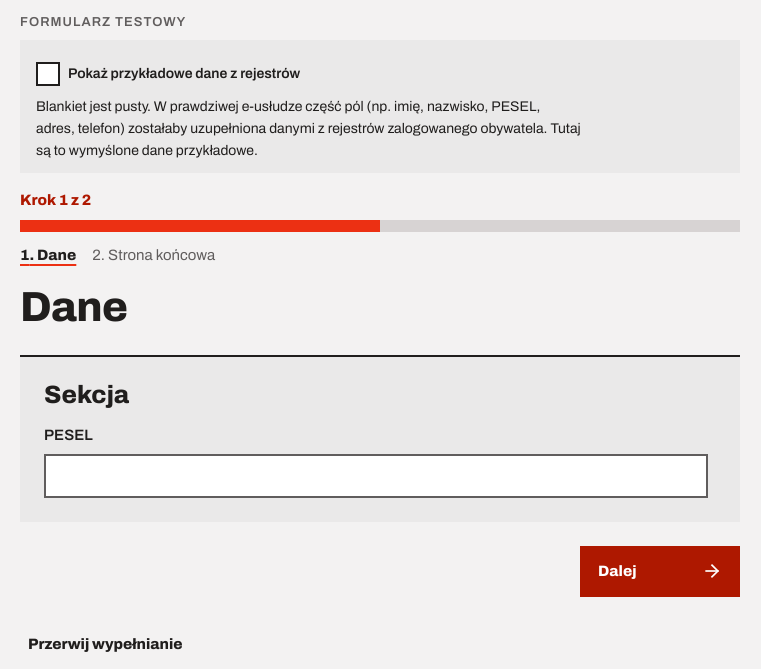
Test: validation on Dalej › lets an empty required field through, so the whole form can be browsed
Click the button "Dalej" at {"x": 660, "y": 571}, box [580, 546, 740, 597]
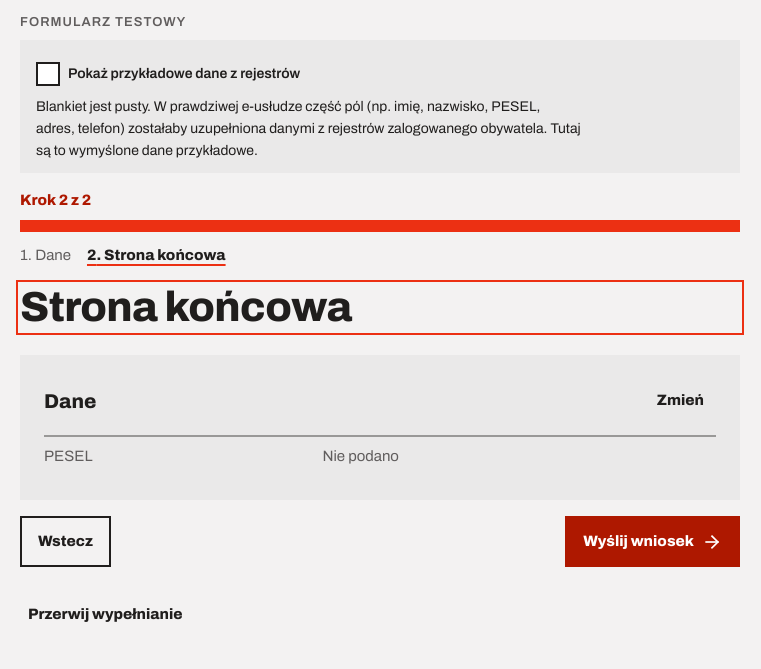
Check: the heading "Strona końcowa" is shown, box [20, 284, 352, 330]
